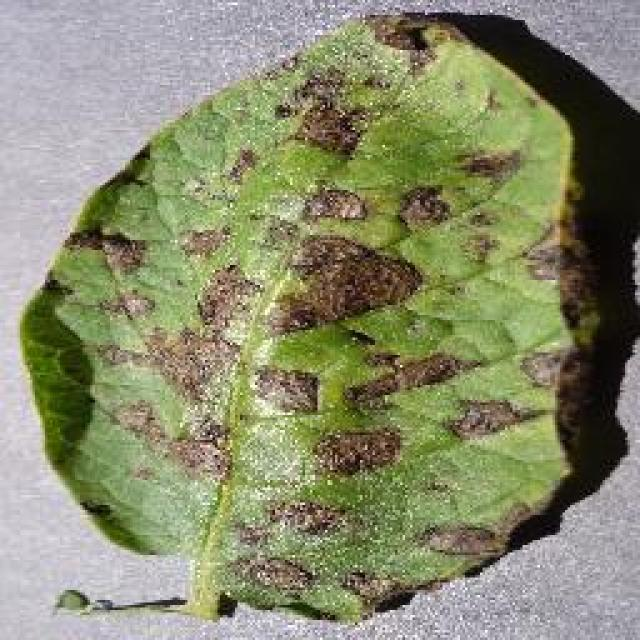early_blight: (15, 8, 603, 628)
